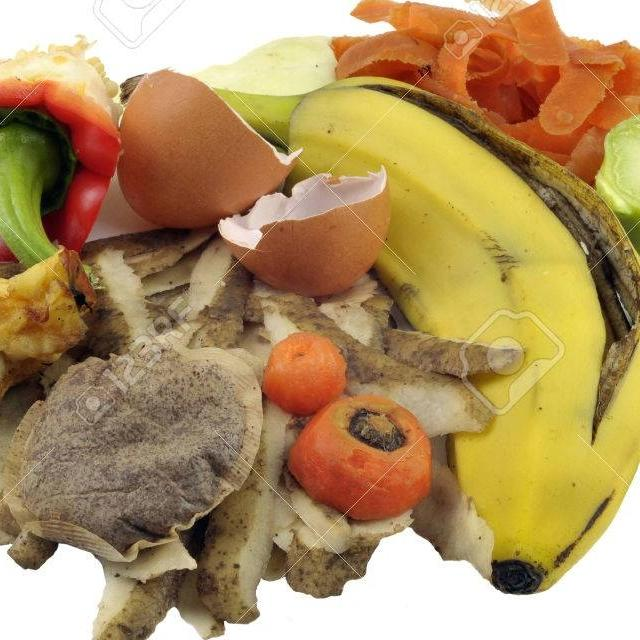food_waste: (110, 47, 640, 604), (0, 328, 269, 571), (0, 340, 281, 571), (309, 0, 640, 170), (85, 45, 337, 242), (182, 156, 455, 298), (0, 23, 134, 291), (264, 388, 469, 524), (0, 233, 140, 429), (257, 317, 377, 428), (580, 86, 640, 274)
